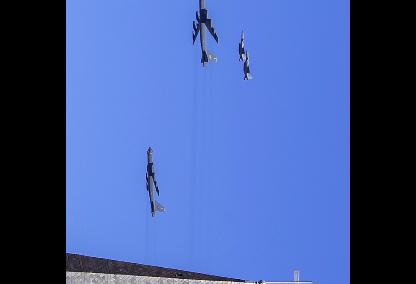B2: (192, 0, 220, 67), (146, 144, 166, 216)
F117: (239, 28, 247, 60), (244, 48, 252, 78)
